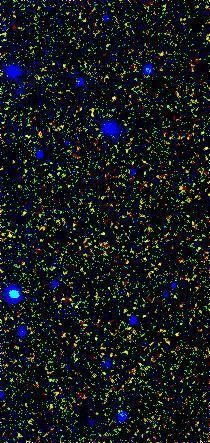star: (97, 82, 127, 112)
